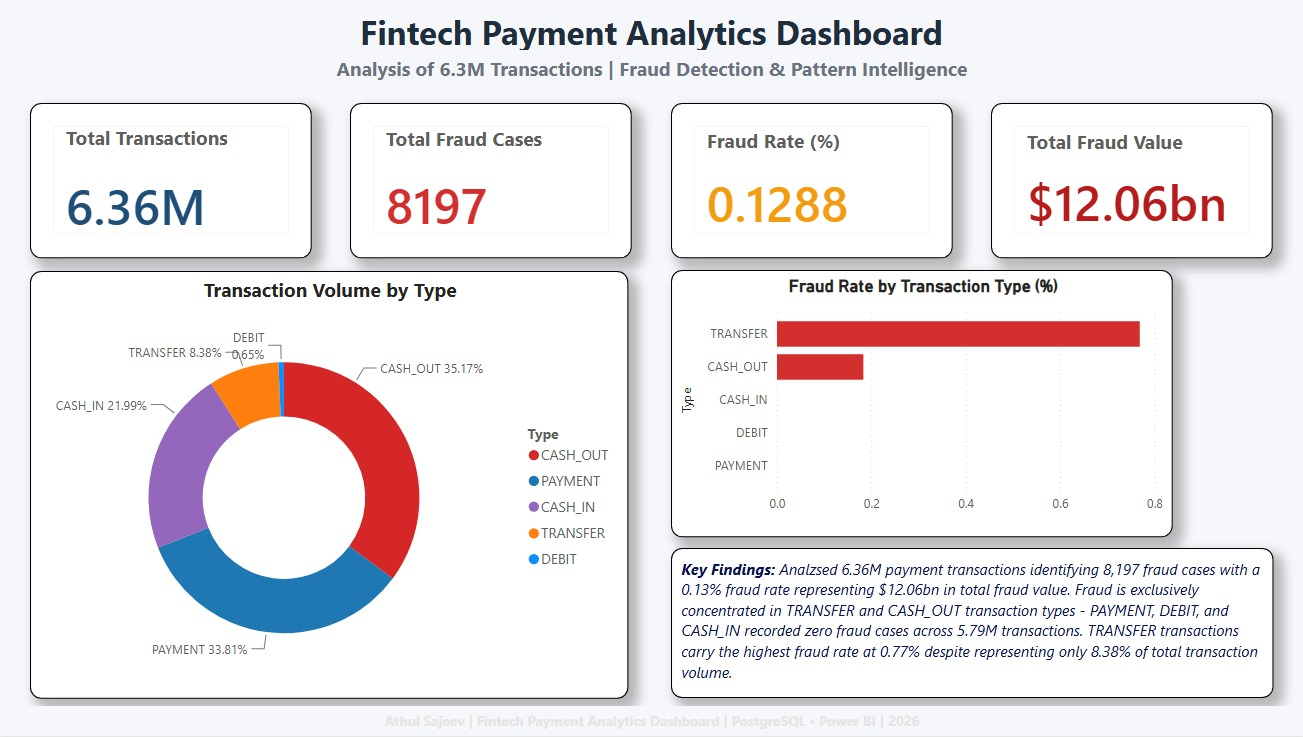

What the dashboard file says about the page in this screenshot:
{"tool":"powerbi","page":{"name":"Executive Summary","canvas":[1280,720],"ordinal":0},"visuals":[{"type":"textbox","box":[72.9,7.8,1133.1,66.1],"z":0},{"type":"textbox","box":[274.3,52.5,731.4,42.8],"z":1000},{"type":"cardVisual","fields":{"Data":["Sum(query1_overall_summary.total_transactions)"]},"box":[35,104.1,274.3,150.8],"z":2000},{"type":"cardVisual","fields":{"Data":["Sum(query1_overall_summary.total_fraud)"]},"box":[346.6,104.1,274.3,150.8],"z":3000},{"type":"cardVisual","fields":{"Data":["Sum(query1_overall_summary.fraud_rate_pct)"]},"box":[658.2,104.1,274.3,150.8],"z":4000},{"type":"cardVisual","fields":{"Data":["Sum(query1_overall_summary.total_fraud_value)"]},"box":[969.7,104.1,274.3,150.8],"z":5000},{"type":"donutChart","title":"Transaction Volume by Type","fields":{"Y":["Sum(query2_fraud_by_type.total_transactions)"],"Category":["query2_fraud_by_type.type"]},"box":[35,267,582,416],"z":6000},{"type":"clusteredBarChart","title":"Fraud Rate by Transaction Type (%)","fields":{"Category":["query2_fraud_by_type.type"],"Y":["Sum(query2_fraud_by_type.fraud_rate_pct)"]},"box":[658.5,266.5,488.3,259.7],"z":7000},{"type":"textbox","box":[658,537,586,146],"z":8000},{"type":"textbox","box":[0,690.6,1280,29.2],"z":8001}]}

Visuals, with their boxes in screenshot pixels (x1, y1, x2, y2), scaled from the page's 1280x720 canvas onto the 1303x737 screenshot:
textbox: locate(74, 8, 1228, 76)
textbox: locate(279, 54, 1024, 98)
cardVisual - Sum(query1_overall_summary.total_transactions): locate(36, 107, 315, 261)
cardVisual - Sum(query1_overall_summary.total_fraud): locate(353, 107, 632, 261)
cardVisual - Sum(query1_overall_summary.fraud_rate_pct): locate(670, 107, 949, 261)
cardVisual - Sum(query1_overall_summary.total_fraud_value): locate(987, 107, 1266, 261)
"Transaction Volume by Type" donutChart: locate(36, 273, 628, 699)
"Fraud Rate by Transaction Type (%)" clusteredBarChart: locate(670, 273, 1167, 539)
textbox: locate(670, 550, 1266, 699)
textbox: locate(0, 707, 1302, 736)
